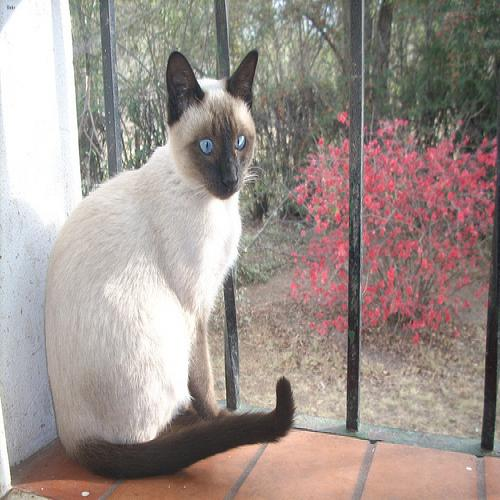siamese: (159, 35, 276, 205)
